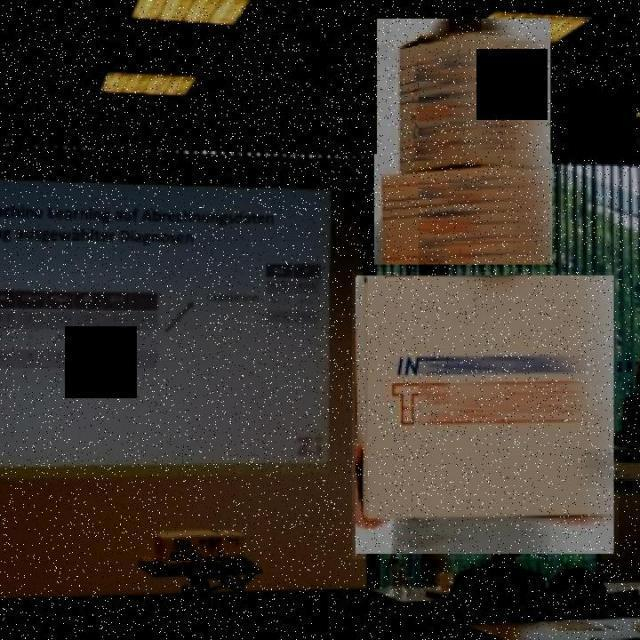box: (352, 272, 619, 559), (374, 17, 556, 194), (370, 152, 558, 268)
